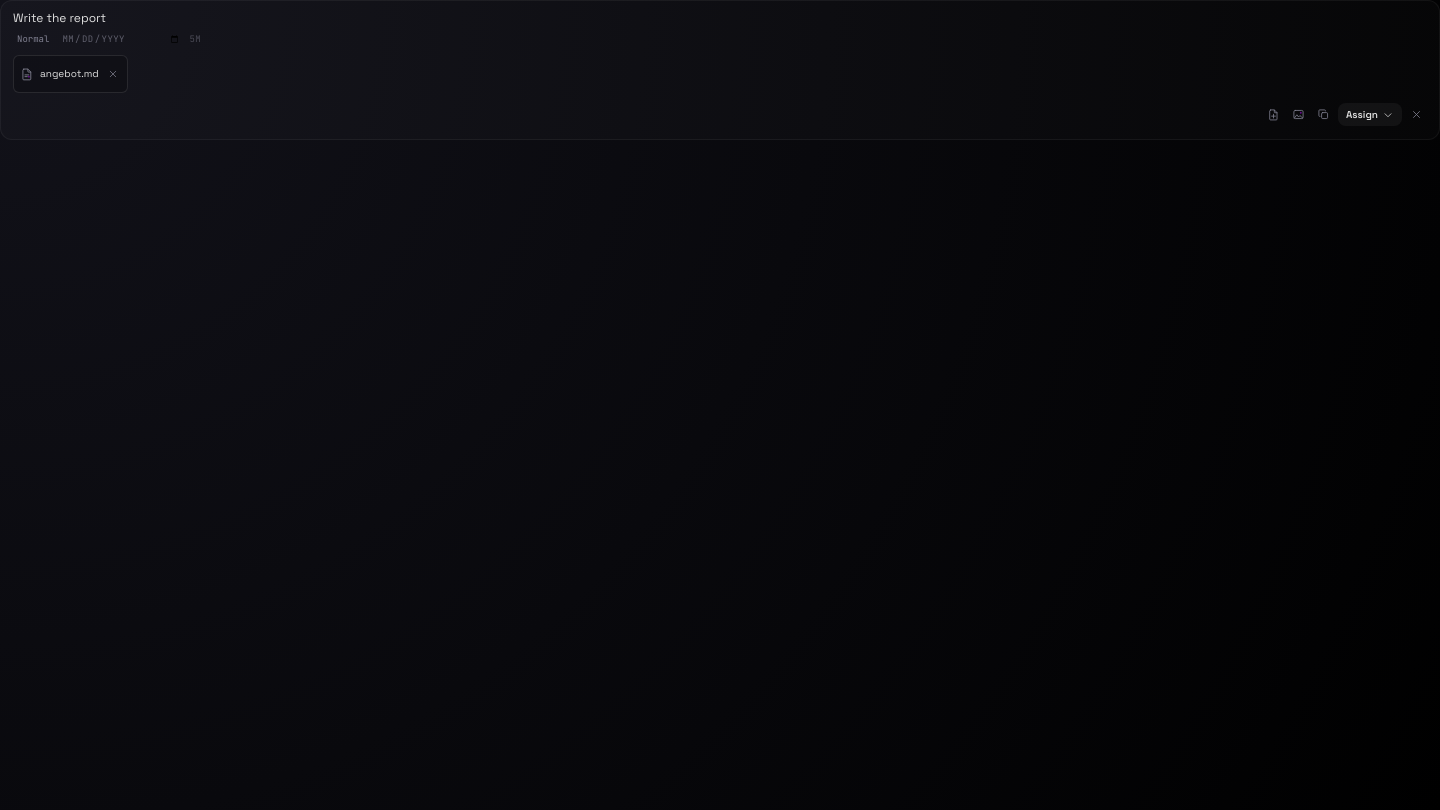
it: InboxItemRow › attachments › reads a stored text attachment when its chip is clicked
Click the button with aria-label "open angebot.md" at (59, 74), box [20,66,99,81]
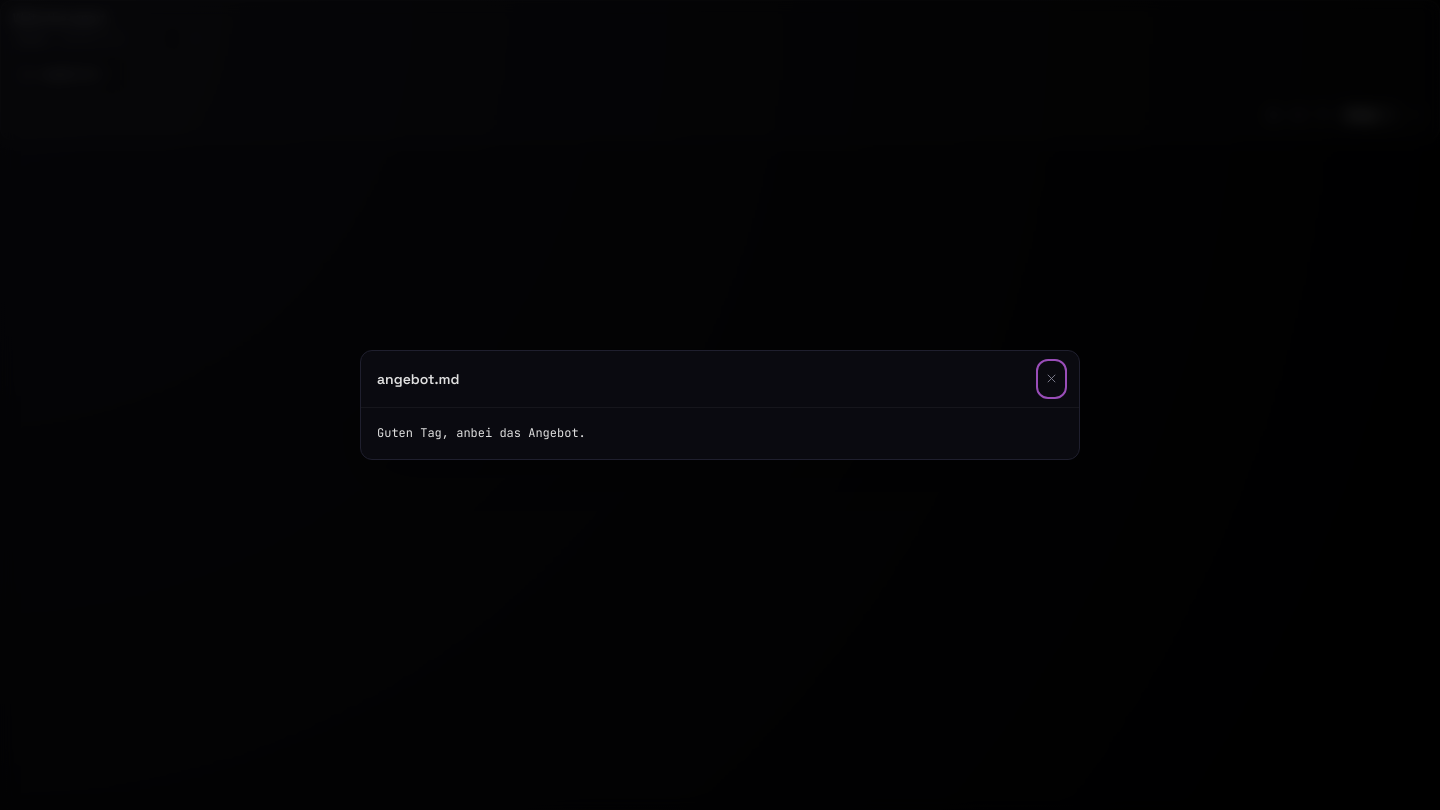
Check: the text "Guten Tag, anbei das Angebot." is shown, box [377,425,586,441]
